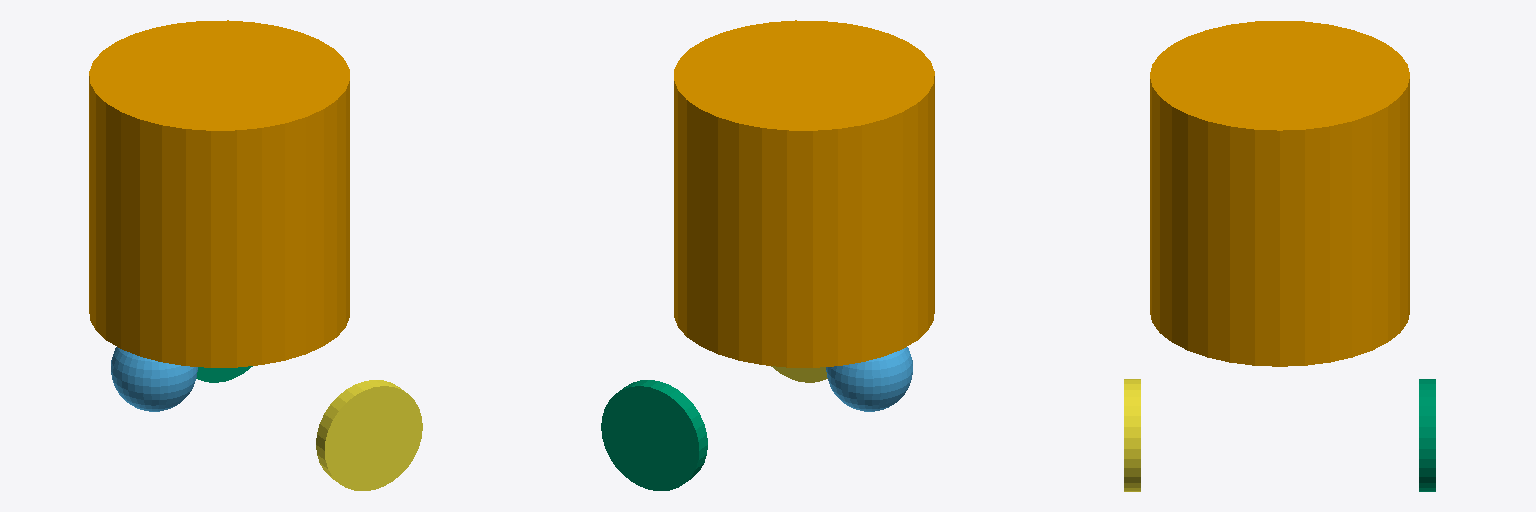
robot.urdf — my_robot:
<?xml version="1.0"?>
<robot name="my_robot">
    <link name="chassis">
      <origin xyz="0 0 0.2" rpy="0 0 0"/>
      <inertial>
		<origin xyz="0 0 0.2" rpy="0 0 0"/>
		<mass value="15"/>
		<inertia
			ixx="0.35595" ixy="0.0" ixz="0.0"
			iyy="0.525" iyz="0.0"
			izz="0.1125"/>
		</inertial>
      <self_collide>0</self_collide>
      <kinematic>0</kinematic>
      <visual name="visual">
        <geometry>
			<cylinder length="0.3" radius="0.15"/>
        </geometry>
        <origin xyz="0 0 0.2" rpy="0 0 0"/>
      </visual>
      <collision name="collision">
        <origin xyz="0 0 0.2" rpy="0 0 0"/>
        <geometry>
          <cylinder length="0.3" radius="0.15"/>
        </geometry>
      </collision>
    </link>
    
    <link name="castor">
      <visual name="caster_visual">
      	<origin xyz="-0.22 0 0" rpy="0 0 0"/>
        <geometry>
        	<sphere radius="0.05"/>
        </geometry>
      </visual>
      <collision name="caster_collision">
        <origin xyz="-0.22 0 0" rpy="0 0 0"/>
        <geometry>
          <sphere radius="0.05"/>
        </geometry>
      </collision>
    </link>
    
    <link name="left_wheel">
    <inertial>
		<mass value="1"/>
		<inertia
			ixx="1.0" ixy="0.0" ixz="0.0"
			iyy="1.0" iyz="0.0"
			izz="1.0"/>
	</inertial>
      <self_collide>0</self_collide>
      <kinematic>0</kinematic>
      <visual name="visual">
        <geometry>
        <cylinder length="0.02" radius="0.065"/>
        </geometry>
            <origin xyz="0.1 0.17 -0.06" rpy="0.000558 1.5707 1.57126"/>
      </visual>
      <collision name="collision">
            <origin xyz="0.1 0.17 -0.06" rpy="0.000558 1.5707 1.57126"/>
        <geometry>
        <cylinder length="0.02" radius="0.065"/>
        </geometry>        
      </collision>
    </link>
    
    <link name="right_wheel">
    <inertial>
		<mass value="1"/>
		<inertia
			ixx="1.0" ixy="0.0" ixz="0.0"
			iyy="1.0" iyz="0.0"
			izz="1.0"/>
	</inertial>
      <visual name="visual">
        <geometry>
          <cylinder length="0.02" radius="0.065"/>
        </geometry>
        <origin xyz="0.1 -0.17 -0.06" rpy="0.000558 1.5707 1.57126"/>
      </visual>
      <collision name="collision">
        <origin xyz="0.1 -0.17 -0.065" rpy="0.000558 1.5707 1.57126"/>
        <geometry>
          <cylinder length="0.02" radius="0.065"/>
        </geometry>    
      </collision>
    </link>
    
    <joint name="left_wheel_hinge" type="revolute">
		<parent link="chassis"/>
		<child link="left_wheel"/>
		<origin xyz="0 0.0 -0.0" rpy="0 0 0"/>
		<axis xyz="0 1 0"/>
		<limit effort="-1" velocity="-1" lower="-1e+16" upper="1e+16"/>
	</joint>
	
	<joint name="right_wheel_hinge" type="revolute">
		<parent link="chassis"/>
		<child link="right_wheel"/>
		<origin xyz="0 0 -0.0" rpy="0 0 0"/>
		<axis xyz="0 1 0"/>
		<limit effort="-1" velocity="-1" lower="-1e+16" upper="1e+16"/>
	</joint>
    
	<joint name="castor_hinge" type="fixed">
	    <parent link="chassis"/>
	    <child link="castor"/>
	    <origin rpy="0 0 0" xyz="0.133333333333 0 0"/>
	  </joint>
	  <!--
    <gazebo reference="chassis">
      <sensor name="ir4" type="ray">
        <pose frame=""> 0.049 -0.152  0 0 -0 -1.2566370614</pose>
        <ray>
          <scan>
            <horizontal>
              <samples>1</samples>
              <resolution>1</resolution>
              <min_angle>-0.0001</min_angle>
              <max_angle>0.0001</max_angle>
            </horizontal>
            <vertical>
              <samples>1</samples>
              <min_angle>0</min_angle>
              <max_angle>0</max_angle>
            </vertical>
          </scan>
          <range>
            <min>0.08</min>
            <max>0.8</max>
            <resolution>0.01</resolution>
          </range>
          <noise>
            <type>gaussian</type>
            <mean>0</mean>
            <stddev>0.01</stddev>
          </noise>
        </ray>
        <plugin name="gazebo_ros_head_hokuyo_controller" filename="libgazebo_ros_laser.so">
          <topicName>/ir</topicName>
          <frameName>ir4</frameName>
        </plugin>
        <always_on>1</always_on>
        <update_rate>10</update_rate>
        <visualize>1</visualize>
      </sensor>
      <sensor name="ir3" type="ray">
        <pose frame=""> -0.1294427191 -0.09404564037 0 0 -0 -2.5132741229</pose>
        <ray>
          <scan>
            <horizontal>
              <samples>1</samples>
              <resolution>1</resolution>
              <min_angle>-0.0001</min_angle>
              <max_angle>0.0001</max_angle>
            </horizontal>
            <vertical>
              <samples>1</samples>
              <min_angle>0</min_angle>
              <max_angle>0</max_angle>
            </vertical>
          </scan>
          <range>
            <min>0.08</min>
            <max>0.8</max>
            <resolution>0.01</resolution>
          </range>
          <noise>
            <type>gaussian</type>
            <mean>0</mean>
            <stddev>0.01</stddev>
          </noise>
        </ray>
        <plugin name="gazebo_ros_head_hokuyo_controller" filename="libgazebo_ros_laser.so">
          <topicName>/ir</topicName>
          <frameName>ir3</frameName>
        </plugin>
        <always_on>1</always_on>
        <update_rate>10</update_rate>
        <visualize>1</visualize>
      </sensor>
       <sensor name="ir2" type="ray">
        <pose frame=""> -0.1294427191 0.09404564037 0 0 -0 2.5132741229</pose>
        <ray>
          <scan>
            <horizontal>
              <samples>1</samples>
              <resolution>1</resolution>
              <min_angle>-0.0001</min_angle>
              <max_angle>0.0001</max_angle>
            </horizontal>
            <vertical>
              <samples>1</samples>
              <min_angle>0</min_angle>
              <max_angle>0</max_angle>
            </vertical>
          </scan>
          <range>
            <min>0.08</min>
            <max>0.8</max>
            <resolution>0.01</resolution>
          </range>
          <noise>
            <type>gaussian</type>
            <mean>0</mean>
            <stddev>0.01</stddev>
          </noise>
        </ray>
        <plugin name="gazebo_ros_head_hokuyo_controller" filename="libgazebo_ros_laser.so">
          <topicName>/ir</topicName>
          <frameName>ir2</frameName>
        </plugin>
        <always_on>1</always_on>
        <update_rate>10</update_rate>
        <visualize>1</visualize>
      </sensor>
      <sensor name="ir1" type="ray">
        <pose frame="">0.049 0.152  0 0 -0 1.2566370614</pose>
        <ray>
          <scan>
            <horizontal>
              <samples>1</samples>
              <resolution>1</resolution>
              <min_angle>-0.0001</min_angle>
              <max_angle>0.0001</max_angle>
            </horizontal>
            <vertical>
              <samples>1</samples>
              <min_angle>0</min_angle>
              <max_angle>0</max_angle>
            </vertical>
          </scan>
          <range>
            <min>0.08</min>
            <max>0.8</max>
            <resolution>0.01</resolution>
          </range>
          <noise>
            <type>gaussian</type>
            <mean>0</mean>
            <stddev>0.01</stddev>
          </noise>
        </ray>
        <plugin name="gazebo_ros_head_hokuyo_controller" filename="libgazebo_ros_laser.so">
          <topicName>/ir</topicName>
          <frameName>ir1</frameName>
        </plugin>
        <always_on>1</always_on>
        <update_rate>10</update_rate>
        <visualize>1</visualize>
      </sensor>
      <sensor name="ir0" type="ray">
        <pose frame="">0.17 0 0 0 -0 0</pose>
        <ray>
          <scan>
            <horizontal>
              <samples>1</samples>
              <resolution>1</resolution>
              <min_angle>-0.0001</min_angle>
              <max_angle>0.0001</max_angle>
            </horizontal>
            <vertical>
              <samples>1</samples>
              <min_angle>0</min_angle>
              <max_angle>0</max_angle>
            </vertical>
          </scan>
          <range>
            <min>0.08</min>
            <max>0.8</max>
            <resolution>0.01</resolution>
          </range>
          <noise>
            <type>gaussian</type>
            <mean>0</mean>
            <stddev>0.01</stddev>
          </noise>
        </ray>
        <plugin name="gazebo_ros_head_hokuyo_controller" filename="libgazebo_ros_laser.so">
          <topicName>/ir</topicName>
          <frameName>ir0</frameName>
        </plugin>
        <always_on>1</always_on>
        <update_rate>10</update_rate>
        <visualize>1</visualize>
      </sensor>
      </gazebo>
    <gazebo>
    	<static>0</static>
    	<allow_auto_disable>1</allow_auto_disable>
	    <plugin name="differential_drive_controller" filename="libgazebo_ros_diff_drive.so">
	      <alwaysOn>true</alwaysOn>
	      <updateRate>20</updateRate>
	      <leftJoint>left_wheel_hinge</leftJoint>
	      <rightJoint>right_wheel_hinge</rightJoint>
	      <wheelSeparation>0.34</wheelSeparation>
	      <wheelDiameter>0.13</wheelDiameter>
	      <torque>5</torque>
	      <commandTopic>cmd_vel</commandTopic>
	      <odometryTopic>odom</odometryTopic>
	      <odometryFrame>odom</odometryFrame>
	      <robotBaseFrame>base_footprint</robotBaseFrame>
	      <legacyMode>true</legacyMode>
	    </plugin>
    </gazebo>
    -->
  </robot>

--- What the picture shows (computed from the rendered views, not written in the file) ---
The picture shows the robot from 3 angles, left to right: view 1: azimuth 30°, elevation 25°; view 2: azimuth 150°, elevation 25°; view 3: azimuth 270°, elevation 25°; orthographic projection.
Model my_robot with 4 links and 3 joints (2 revolute, 1 fixed), rooted at chassis, posed every joint at zero.
Visible links, largest first — view 1: chassis, right_wheel, castor, left_wheel; view 2: chassis, left_wheel, castor, right_wheel; view 3: chassis, left_wheel, right_wheel.
Boxes of the visible links, <box> form: chassis: <box>89,20,349,367</box>; right_wheel: <box>316,380,422,490</box>; castor: <box>111,347,197,411</box>; left_wheel: <box>196,366,252,382</box>; chassis: <box>674,20,934,367</box>; left_wheel: <box>601,380,707,490</box>; castor: <box>826,347,912,411</box>; right_wheel: <box>771,366,827,382</box>; chassis: <box>1150,21,1409,366</box>; left_wheel: <box>1419,379,1435,491</box>; right_wheel: <box>1124,379,1140,491</box>.
Bounding box of the posed robot: 0.315 × 0.36 × 0.475 m (x, y, z).
Geometry: primitives only (box / cylinder / sphere), no mesh files.